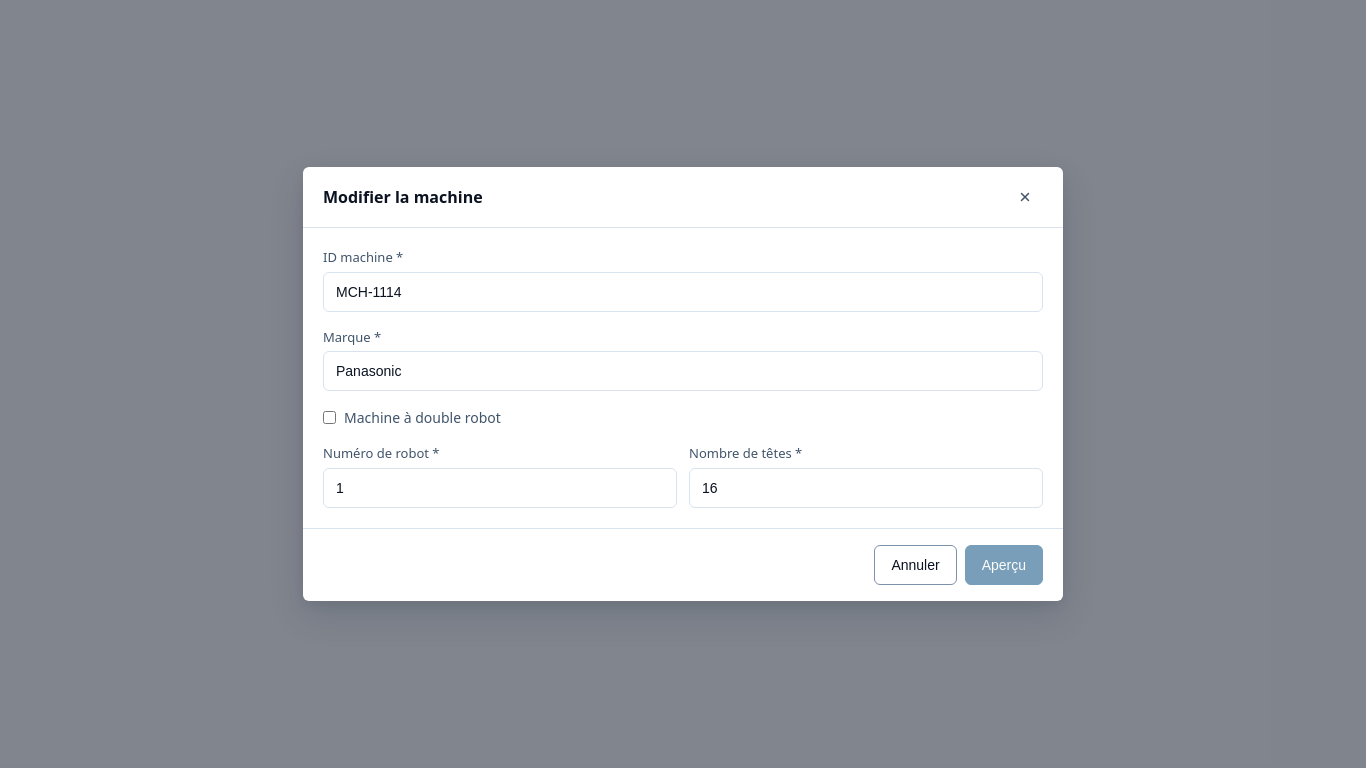
EditMachineModal – modification réelle › redevient non modifié si on revient à la valeur d'origine après un détour
Replace the text in the field labelled "Marque *" with "Fuji" at (683, 371), box [323, 351, 1043, 391]
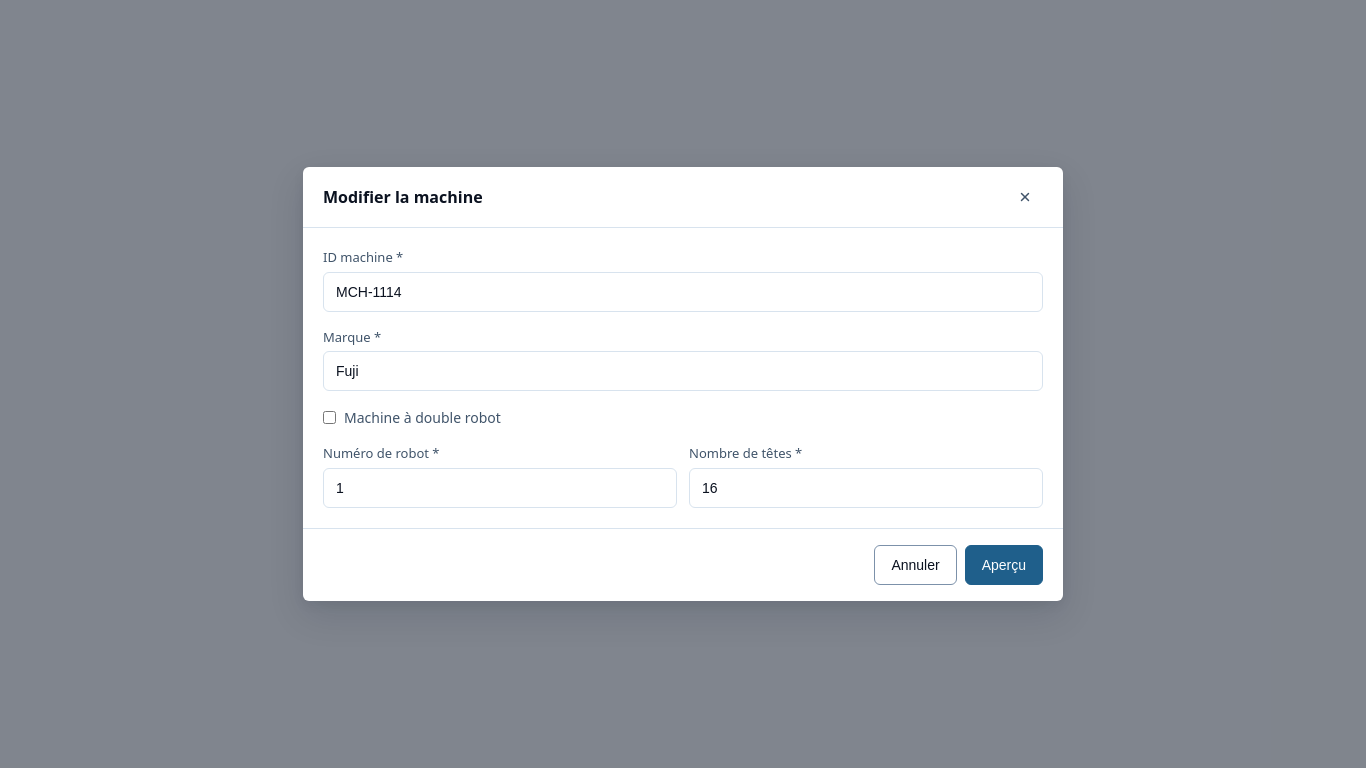
Replace the text in the field labelled "Marque *" with "Panasonic" at (683, 371), box [323, 351, 1043, 391]
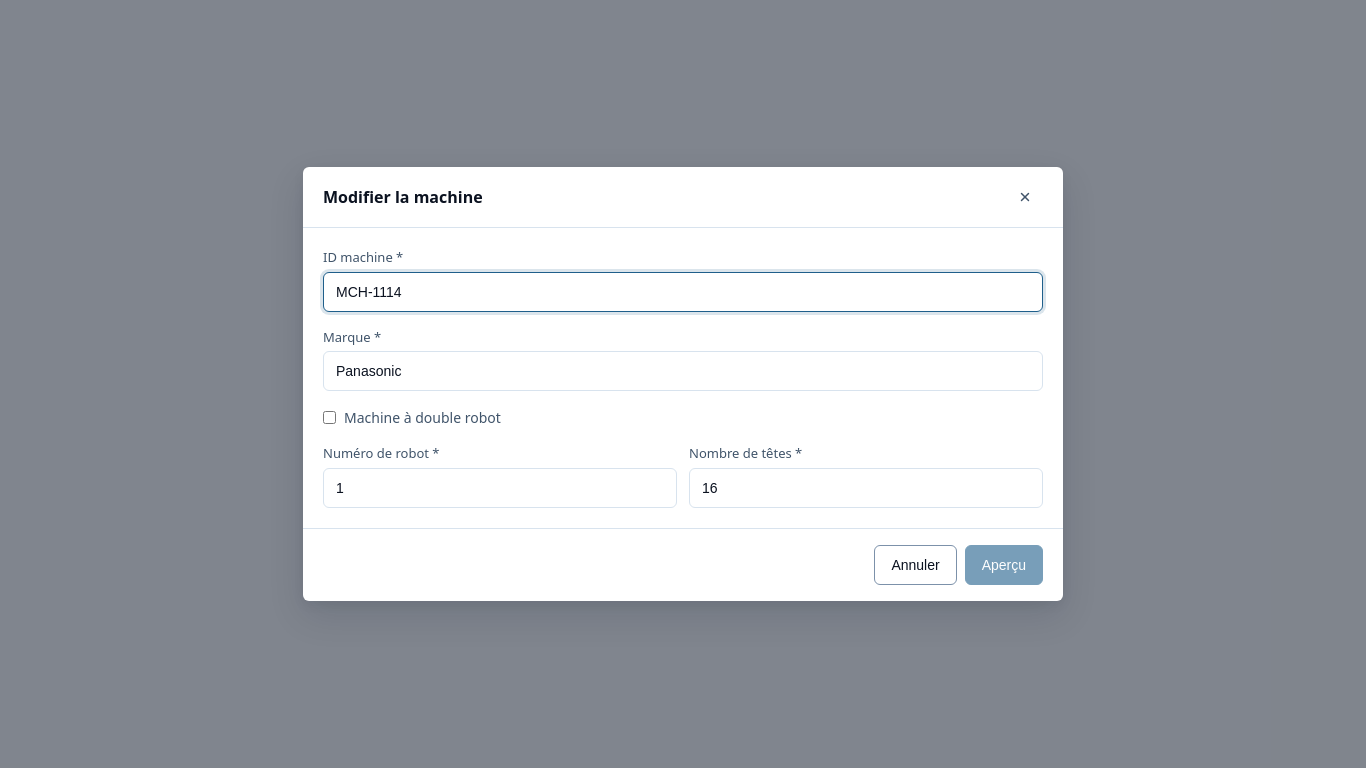
Now the button "Aperçu" is disabled, box [965, 545, 1043, 585]
